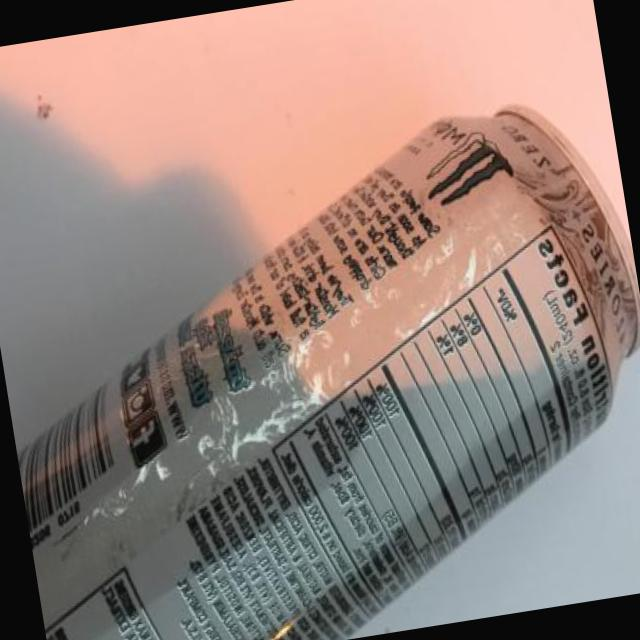nhom: (17, 106, 640, 640)
